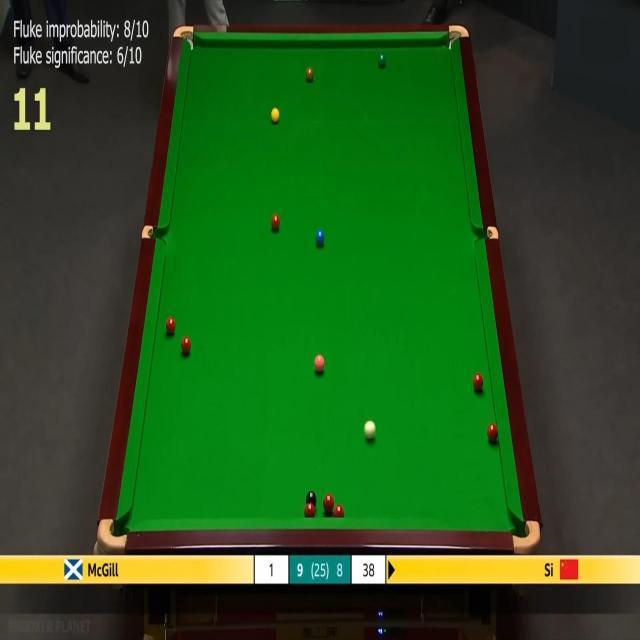Ball: (364, 420, 376, 440), (487, 423, 498, 442), (323, 493, 334, 512), (304, 502, 316, 518), (473, 373, 483, 392), (166, 317, 176, 335), (314, 354, 324, 372), (181, 336, 191, 354), (270, 214, 280, 232), (306, 491, 316, 508), (315, 230, 325, 246), (270, 108, 280, 123), (334, 505, 344, 518), (306, 68, 314, 82), (378, 54, 386, 67)
